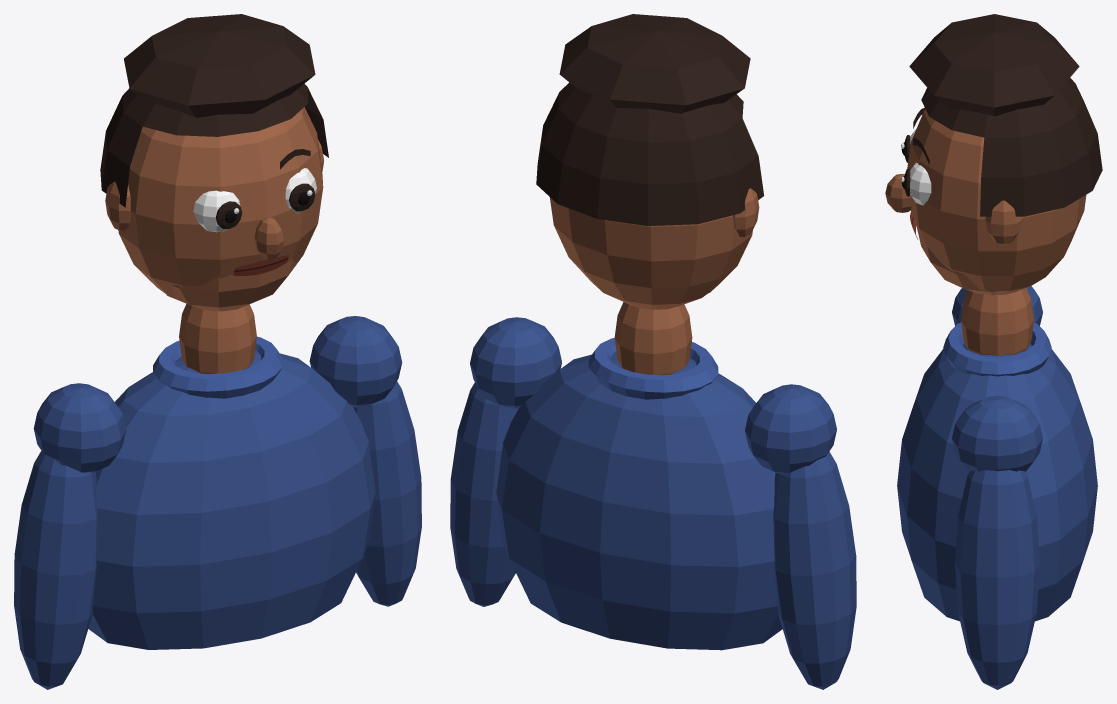
File: portrait_coach.glb
3 views of the same model, side by side, from view 1: azimuth 30°, elevation 25°; view 2: azimuth 150°, elevation 25°; view 3: azimuth 270°, elevation 25° (orthographic). The views are drawn at different scales.
Visible parts, largest first — view 1: Torso_coach, Skull_coach, Arm-1_coach, HairTop_coach, Arm1_coach, HairCap_coach, Shoulder-1_coach, Shoulder1_coach, Neck_coach, Collar_coach, Jaw_coach, Eyeball_L_coach (+3 smaller); view 2: Torso_coach, HairCap_coach, Arm-1_coach, HairTop_coach, Skull_coach, Arm1_coach, Shoulder-1_coach, Shoulder1_coach, Neck_coach, Collar_coach, Ear-1_coach; view 3: Torso_coach, Arm1_coach, Skull_coach, HairCap_coach, HairTop_coach, Shoulder1_coach, Neck_coach, Collar_coach, Ear1_coach, Jaw_coach, Eyeball_R_coach, Nose_coach (+1 smaller).
Boxes of the visible parts, <box> form: Torso_coach: <box>88,350,375,649</box>; Skull_coach: <box>118,107,323,298</box>; Arm-1_coach: <box>14,451,97,689</box>; HairTop_coach: <box>124,14,315,117</box>; Arm1_coach: <box>353,381,421,606</box>; HairCap_coach: <box>100,83,328,207</box>; Shoulder-1_coach: <box>33,383,126,472</box>; Shoulder1_coach: <box>309,316,402,407</box>; Neck_coach: <box>179,303,256,373</box>; Collar_coach: <box>152,336,283,398</box>; Jaw_coach: <box>164,258,300,311</box>; Eyeball_L_coach: <box>193,190,240,232</box>; Torso_coach: <box>496,351,782,650</box>; HairCap_coach: <box>536,82,763,225</box>; Arm-1_coach: <box>773,451,856,689</box>; HairTop_coach: <box>559,14,750,113</box>; Skull_coach: <box>549,197,752,309</box>; Arm1_coach: <box>450,382,518,606</box>; Shoulder-1_coach: <box>745,384,836,473</box>; Shoulder1_coach: <box>470,317,561,408</box>; Neck_coach: <box>614,302,692,375</box>; Collar_coach: <box>588,338,718,399</box>; Ear-1_coach: <box>733,188,759,236</box>; Torso_coach: <box>897,343,1097,621</box>; Arm1_coach: <box>955,470,1039,689</box>; Skull_coach: <box>907,109,1086,294</box>; HairCap_coach: <box>921,78,1102,216</box>; HairTop_coach: <box>909,14,1079,116</box>; Shoulder1_coach: <box>952,396,1042,471</box>; Neck_coach: <box>961,288,1033,355</box>; Collar_coach: <box>943,322,1051,376</box>; Ear1_coach: <box>985,200,1021,244</box>; Jaw_coach: <box>916,224,997,295</box>; Eyeball_R_coach: <box>910,162,931,205</box>; Nose_coach: <box>885,174,911,212</box>.
Size of what is drawn, in the model's own units: 0.7032 by 1.05 by 0.3571.
